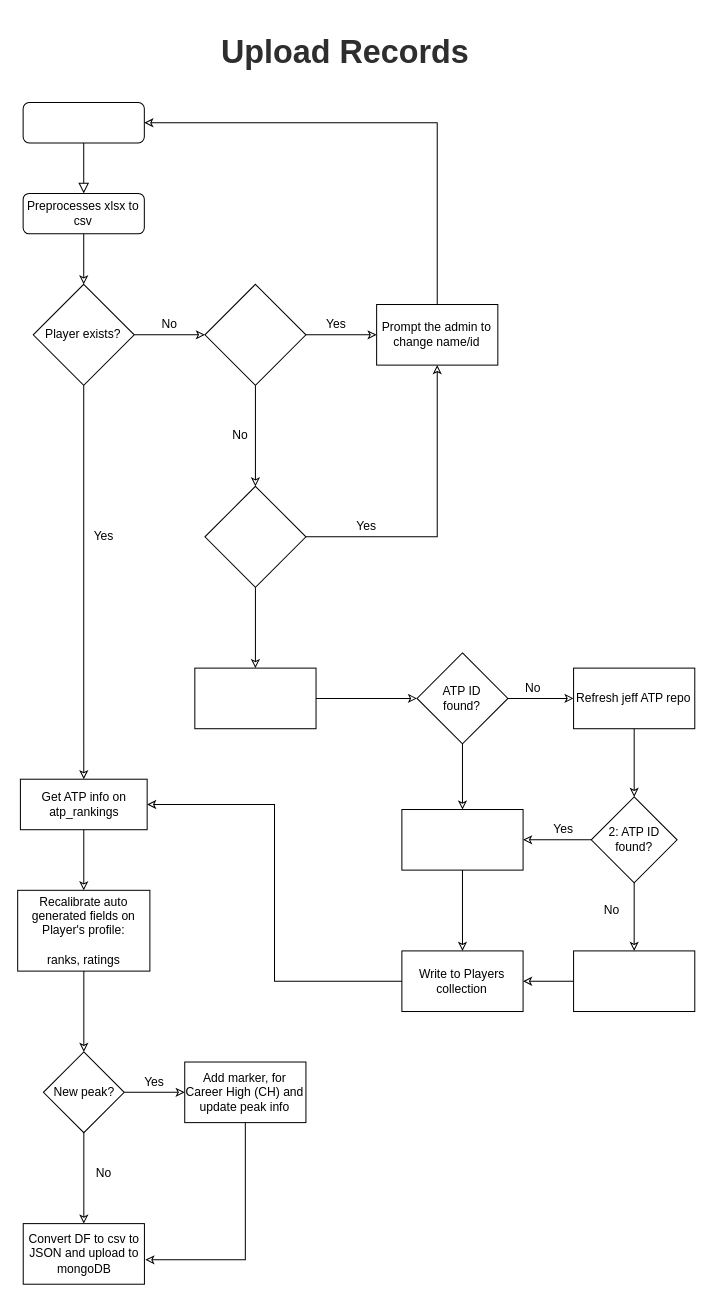
The diagram is 713 pixels wide and 1302 high, and some of its shapes have lost their labels. The centre of each missing label's shape, as x and y in pixels:
"Get atp_id, hand, dob, height" belongs at point (462, 839).
"ID exists?" belongs at point (255, 334).
"Map ATP ID from jeff's repo" belongs at point (255, 698).
"Name similar?" belongs at point (255, 536).
"Prompt admin, new player will have no ATP records" belongs at point (634, 981).
"Uploads Weekly Record" belongs at point (83, 122).
